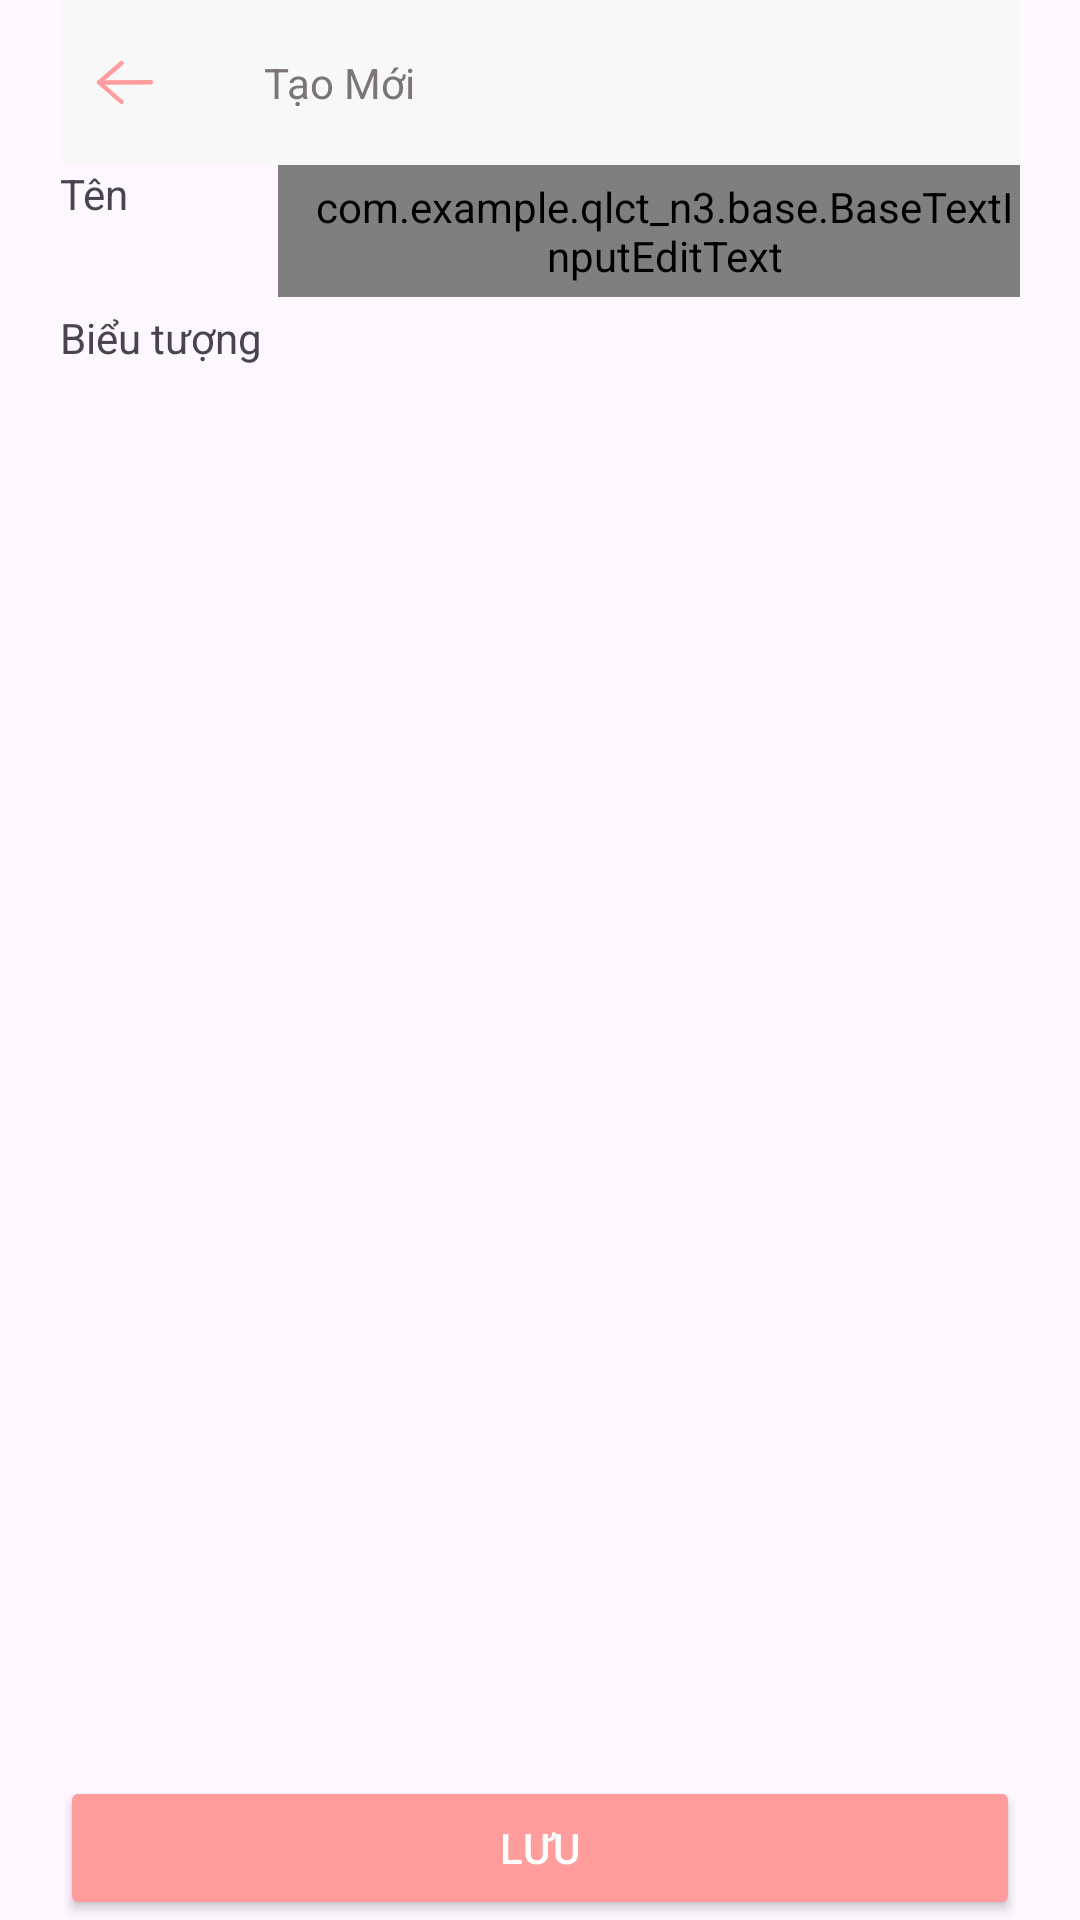

Named icons in this screenshot (1080 x 1920) and their centers, [x,y]:
back: [124,82]
